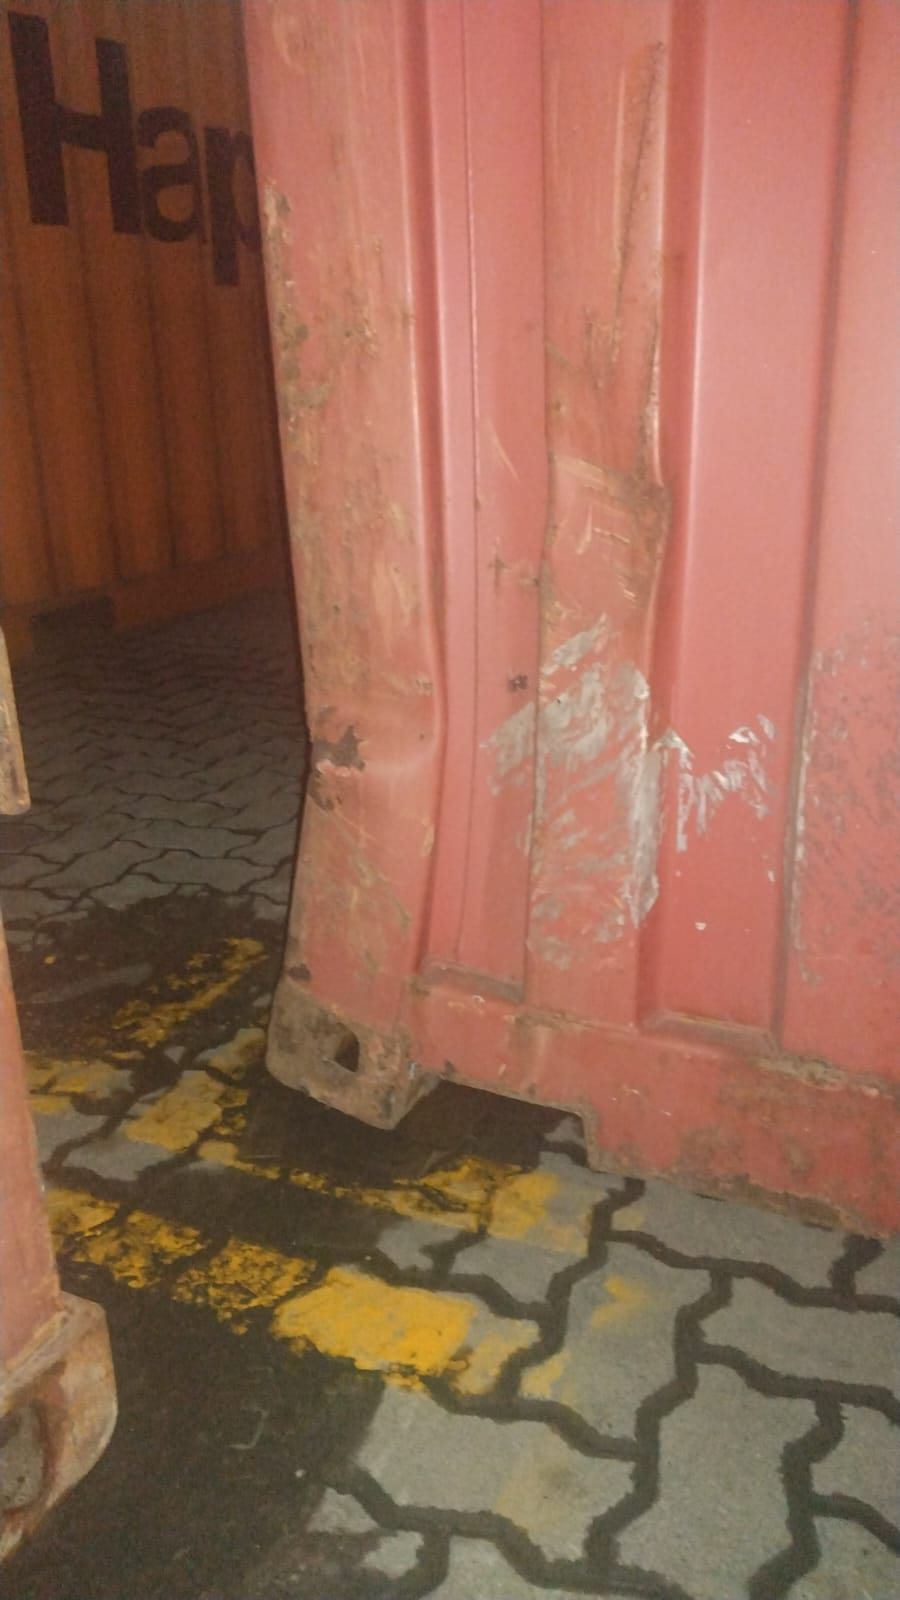moderate: (269, 184, 684, 1098)
